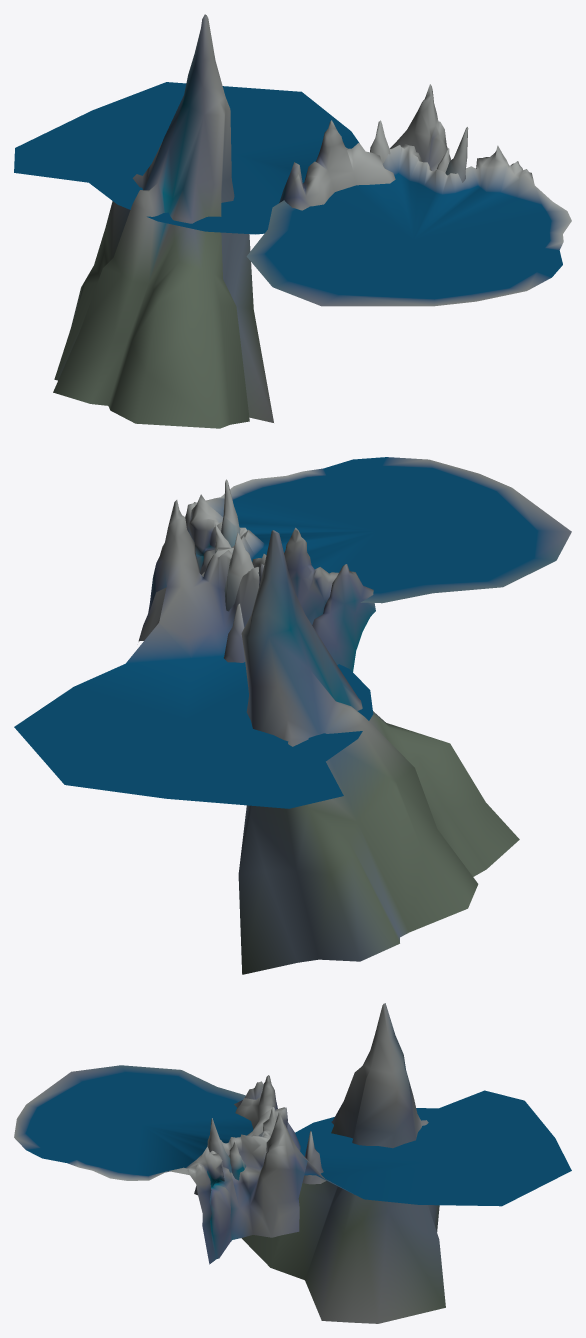
3 renders of one model, top to bottom at view 1: azimuth 30°, elevation 25°; view 2: azimuth 150°, elevation 25°; view 3: azimuth 270°, elevation 25°, orthographic. The views are drawn at different scales.
Parts seen in each view (by area): view 1: G:\FFXIV-MapTools\exports\w1f5\bg\ffxiv\wil_w1\fld\w1f5\bgpa; view 2: G:\FFXIV-MapTools\exports\w1f5\bg\ffxiv\wil_w1\fld\w1f5\bgpa; view 3: G:\FFXIV-MapTools\exports\w1f5\bg\ffxiv\wil_w1\fld\w1f5\bgpa.
Boxes of the visible parts, x1,y1,x2,y2 form: G:\FFXIV-MapTools\exports\w1f5\bg\ffxiv\wil_w1\fld\w1f5\bgpa: [14, 14, 571, 428]; G:\FFXIV-MapTools\exports\w1f5\bg\ffxiv\wil_w1\fld\w1f5\bgpa: [14, 457, 571, 974]; G:\FFXIV-MapTools\exports\w1f5\bg\ffxiv\wil_w1\fld\w1f5\bgpa: [14, 1003, 571, 1323].
Bounding box in the file's own units: 211 × 209 × 341.
